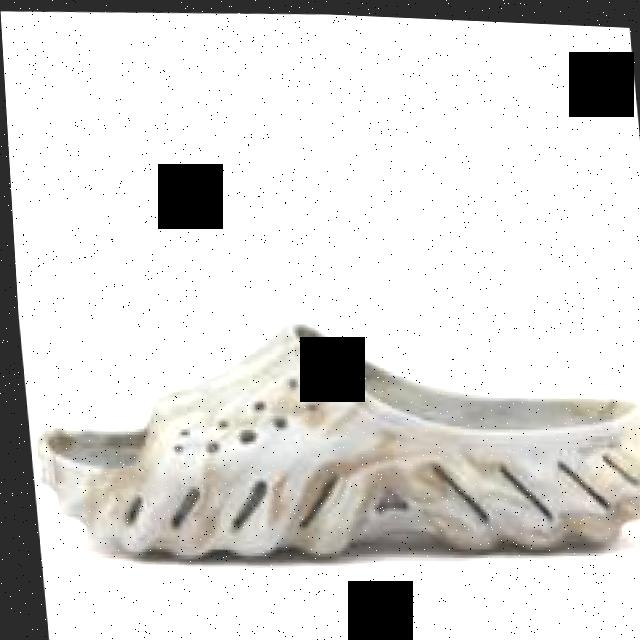shoe: (34, 321, 640, 555)
